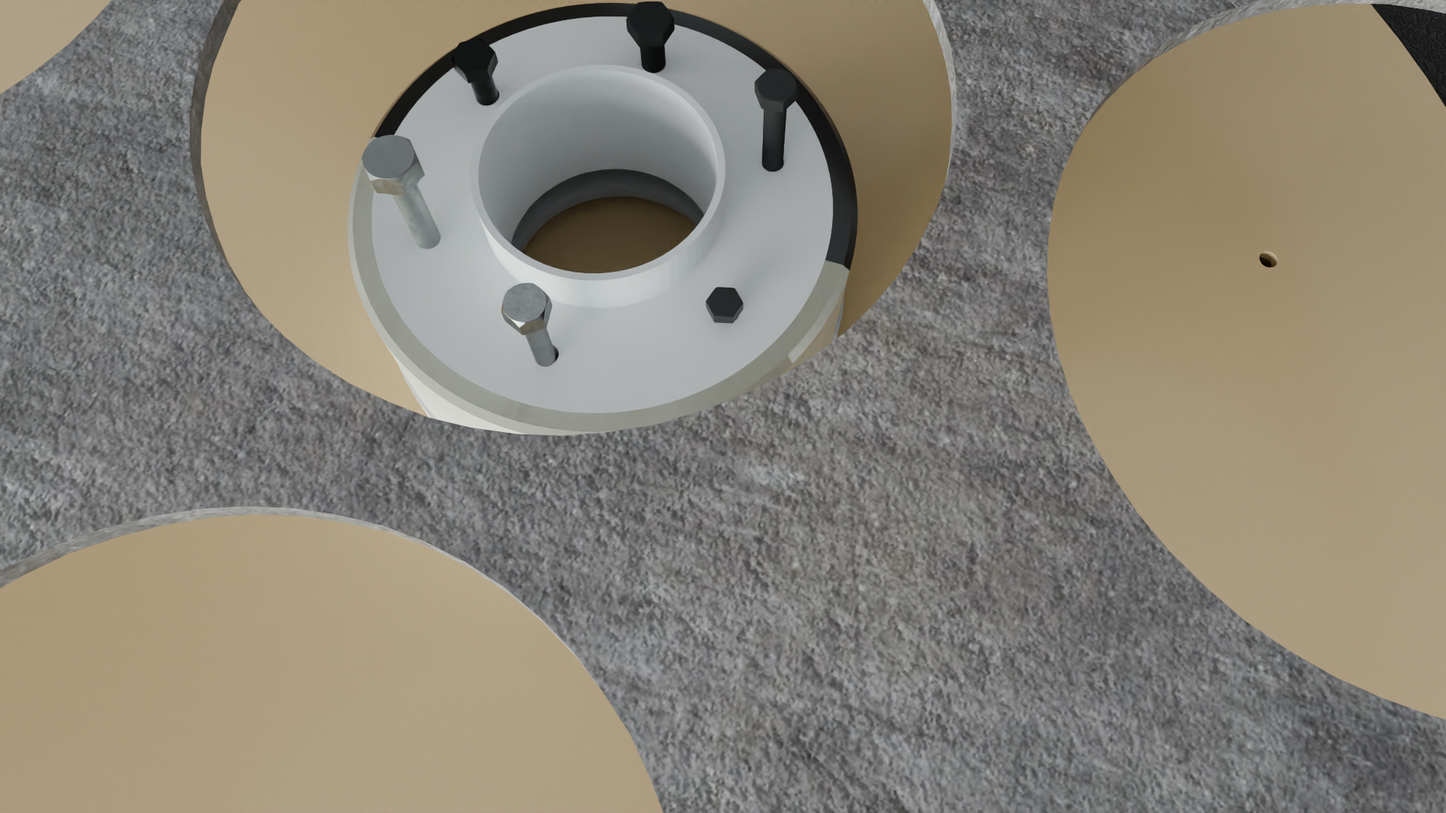bolt: (361, 135, 419, 183), (502, 282, 549, 327), (626, 2, 674, 36), (451, 38, 495, 74), (755, 68, 798, 103), (706, 287, 743, 318)
